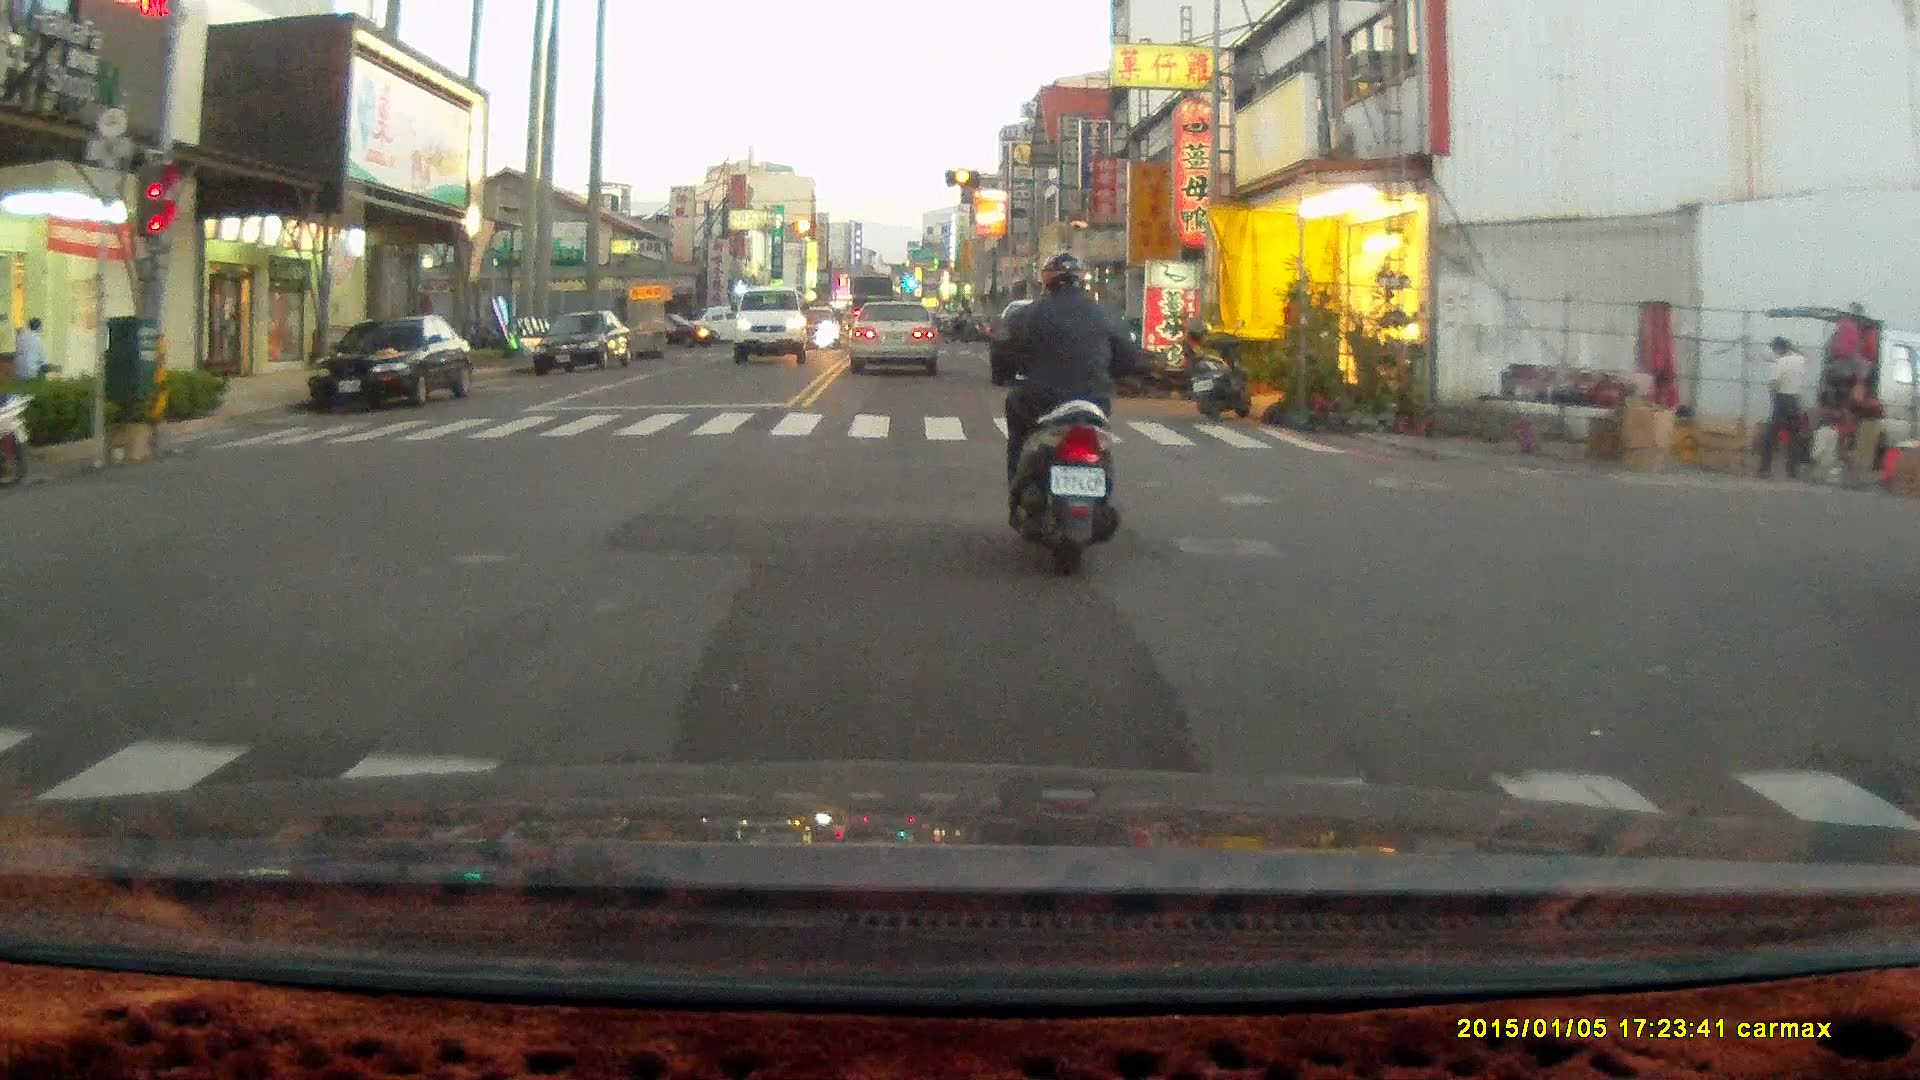pedestrian: (1755, 337, 1807, 483), (17, 313, 47, 391)
rider: (985, 247, 1134, 575)
vehicle: (1815, 320, 1920, 489), (305, 314, 473, 413), (851, 301, 946, 373), (534, 308, 633, 377), (733, 286, 809, 365)
